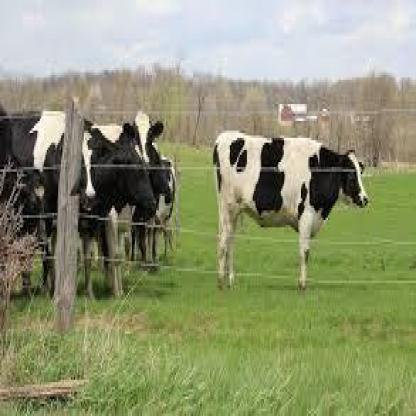cow: (9, 110, 153, 299), (213, 131, 369, 290), (127, 161, 180, 262), (116, 112, 169, 176)
